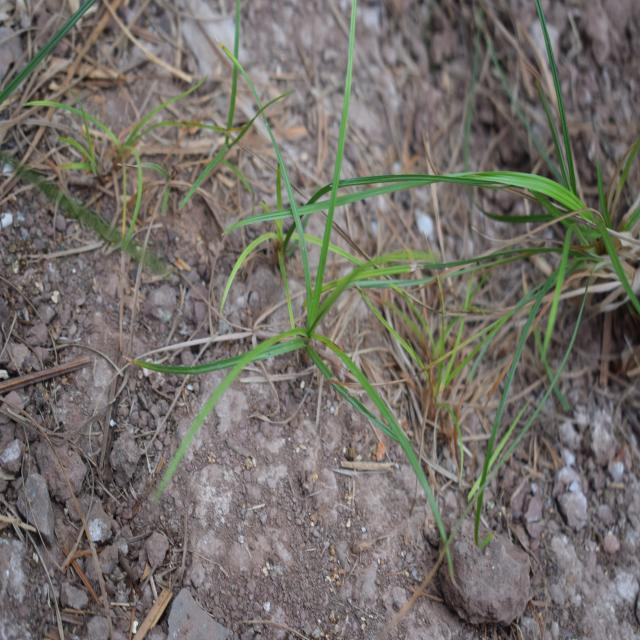sedge: (152, 48, 497, 518)
